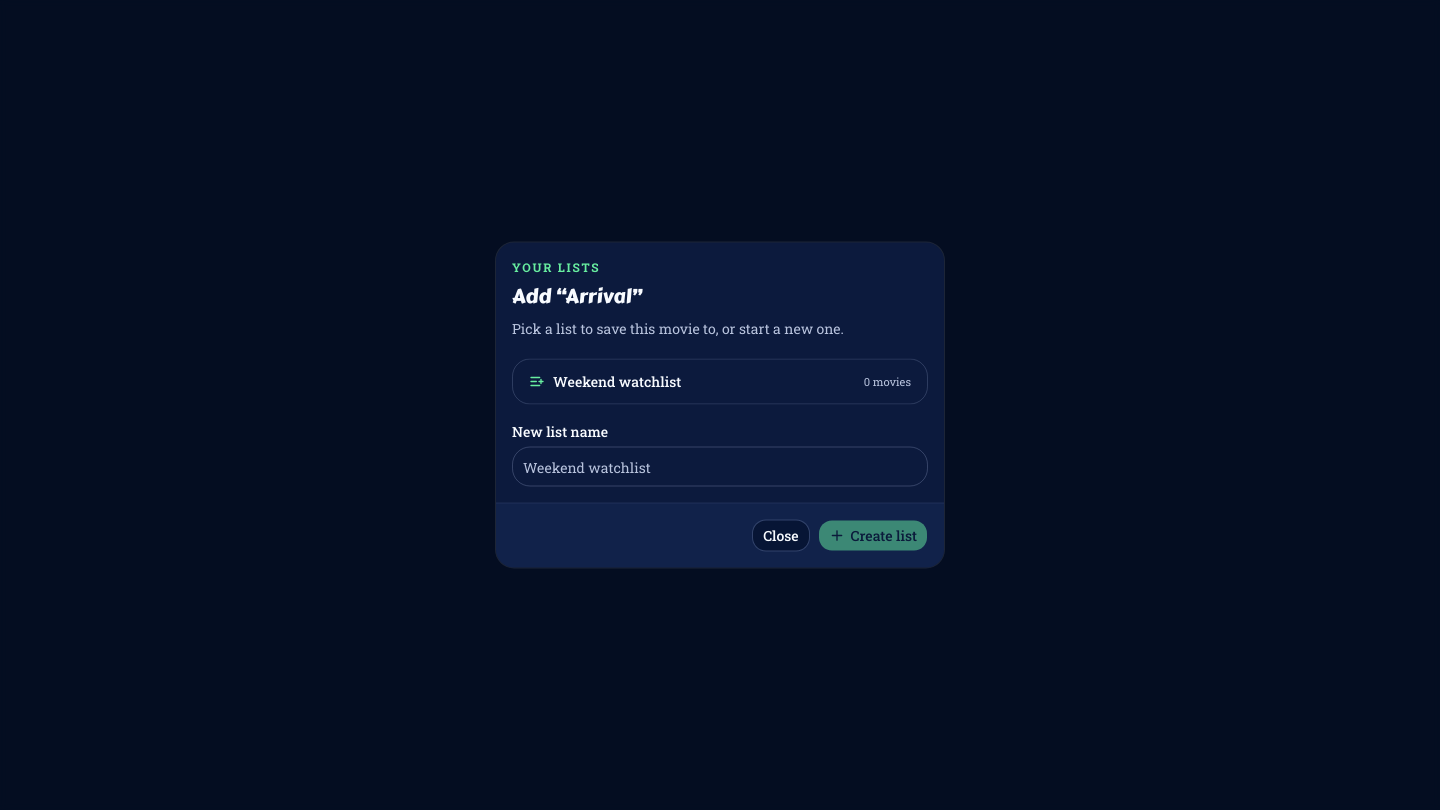
Test: AddToListDialog add to list › confirms which list the movie was added to
What coordinates should you click on to do the following:
click the button "Weekend watchlist 0 movies"
I would click on:
 (617, 381)
Its box is [512,358,928,404].
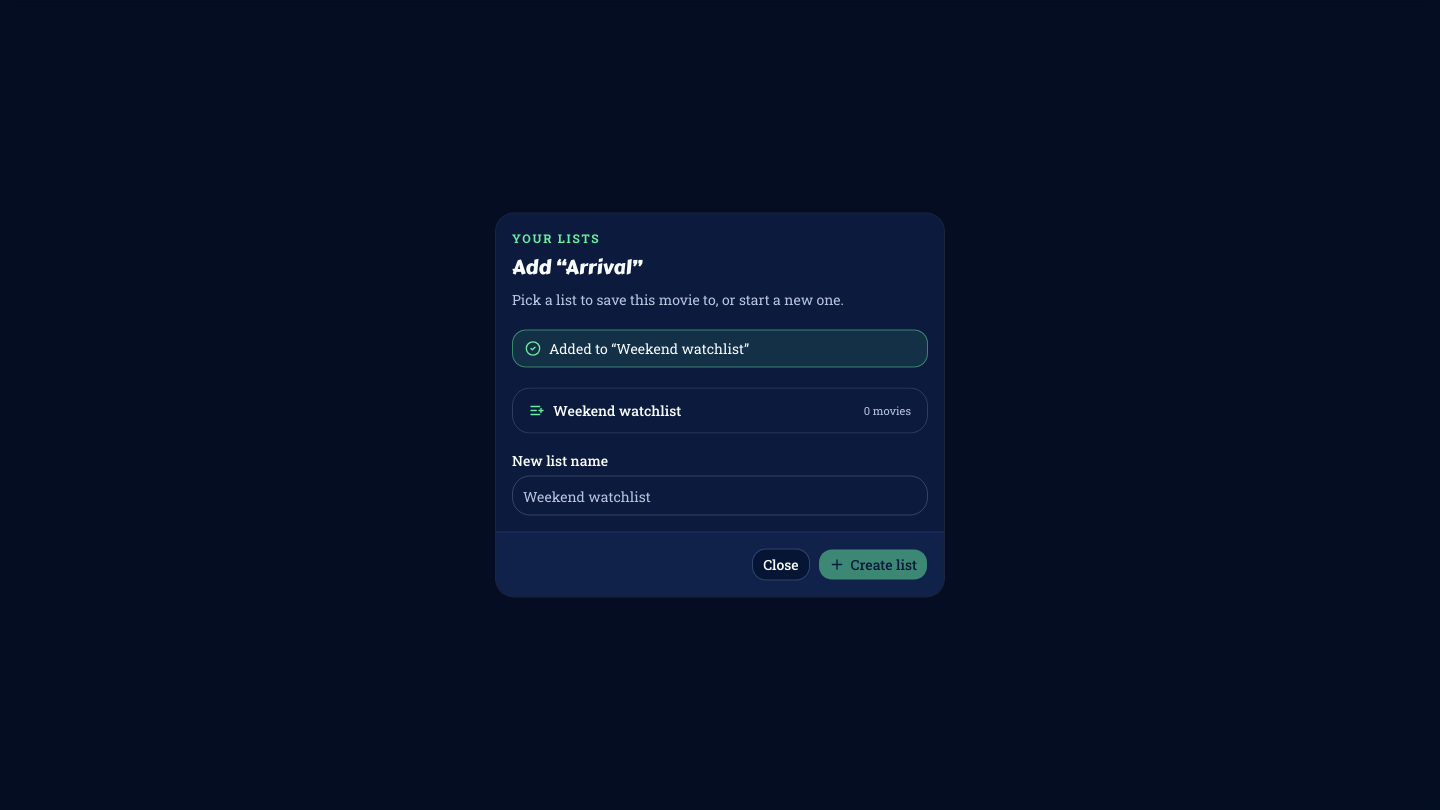
Expected: the message reads "Added to “Weekend watchlist”", [549,338,749,358]
